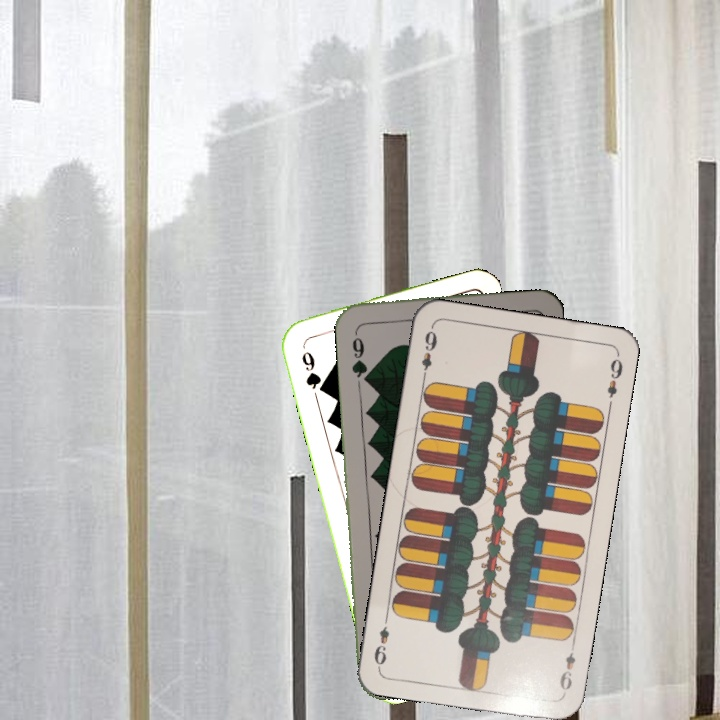E9: (417, 323, 440, 382), (555, 639, 578, 697)
G9: (297, 347, 328, 396), (347, 325, 372, 384)
